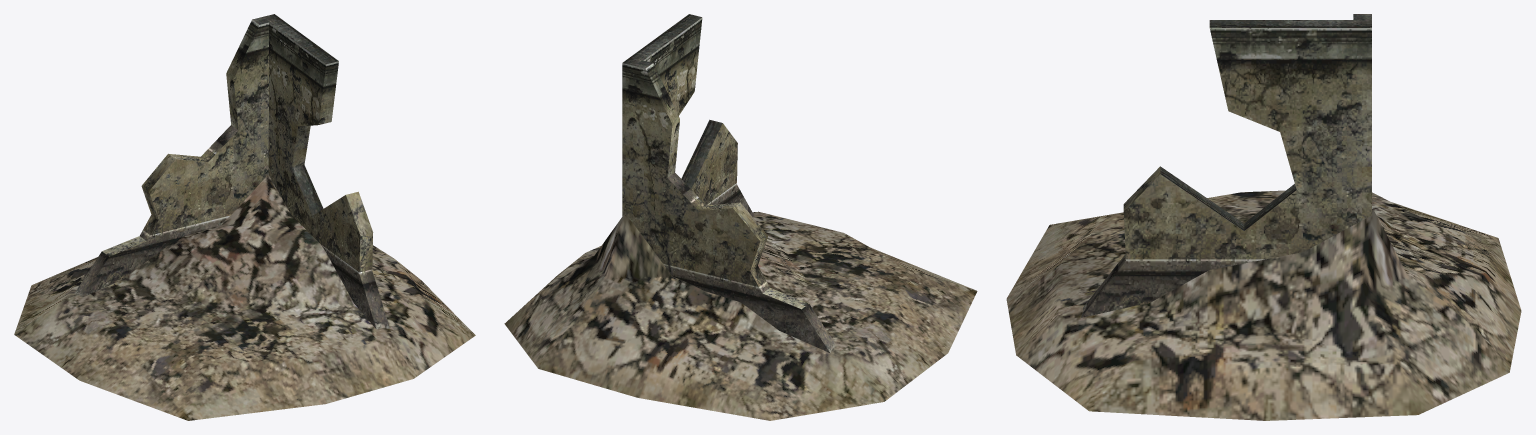
Rendered from Rbl_C1.glb.
The picture shows the model from 3 angles, left to right: view 1: azimuth 30°, elevation 25°; view 2: azimuth 150°, elevation 25°; view 3: azimuth 270°, elevation 25°; orthographic projection. The views are drawn at different scales.
Visible parts, largest first — view 1: _Rbl_C1; view 2: _Rbl_C1; view 3: _Rbl_C1.
Boxes of the visible parts, bbox=[...] form: _Rbl_C1: bbox=[14, 14, 475, 420]; _Rbl_C1: bbox=[504, 14, 977, 420]; _Rbl_C1: bbox=[1006, 14, 1521, 420].
Size of the model in its own units: 7.01 by 4.85 by 6.87.
2 materials, 2 textured.
